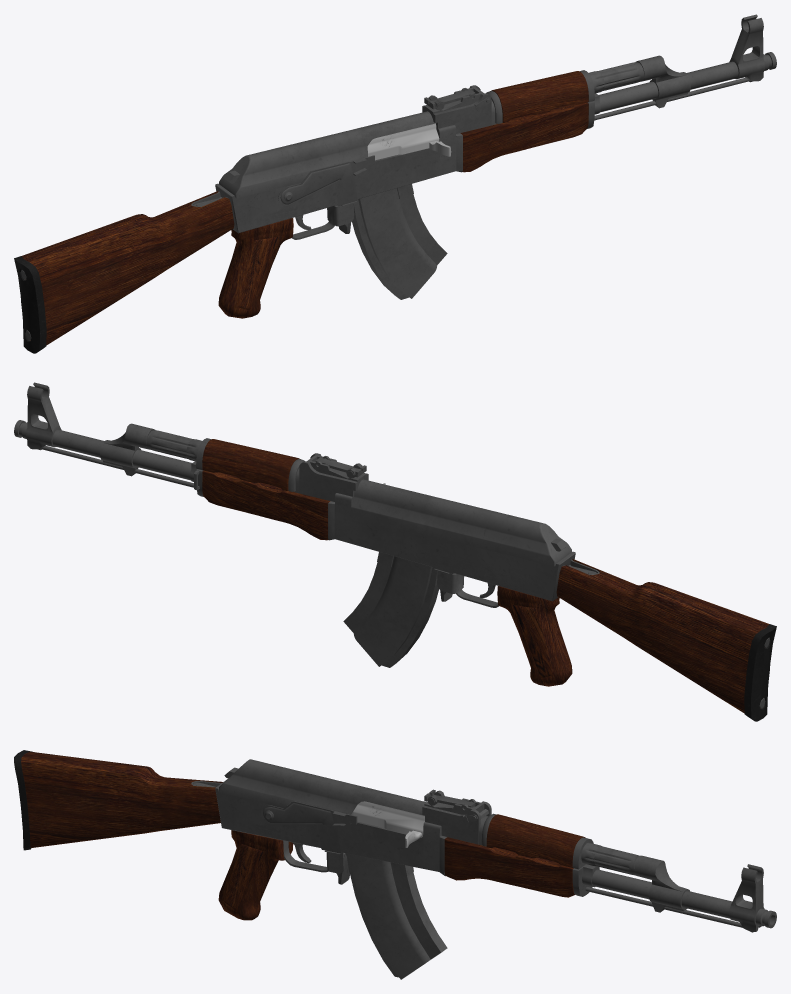
3 renders of one model, top to bottom at view 1: azimuth 30°, elevation 25°; view 2: azimuth 150°, elevation 25°; view 3: azimuth 330°, elevation 25°, orthographic.
Visible parts, largest first — view 1: Cylinder.002; view 2: Cylinder.002; view 3: Cylinder.002.
Part boxes in pixels (x1,y1,x2,y2): Cylinder.002: (14,14,776,353); Cylinder.002: (14,382,776,721); Cylinder.002: (14,750,776,979).
Bounding box in the file's own units: 0.8743 × 0.2142 × 0.066.
1 material, 1 textured.
